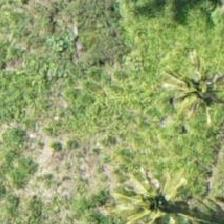coconut_tree: (154, 49, 223, 139), (110, 167, 200, 223)
